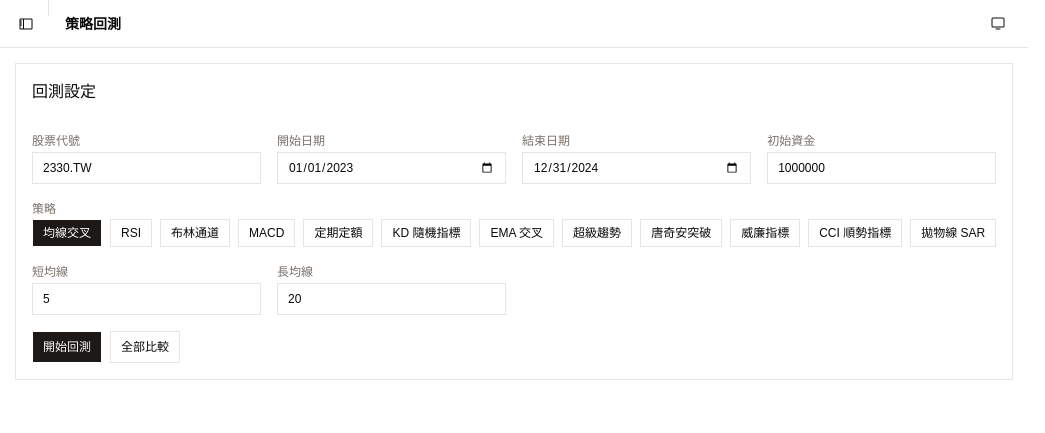
Test: Backtest Page › displays error when backtest fails
Click the button "開始回測": click(67, 346) [32, 330, 102, 362]
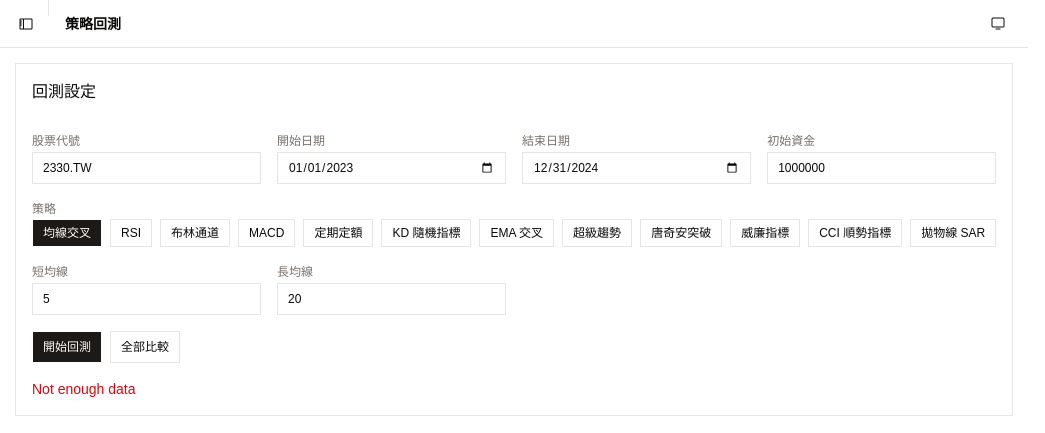
Expected: the text "Not enough data" is shown, [32, 380, 136, 396]
